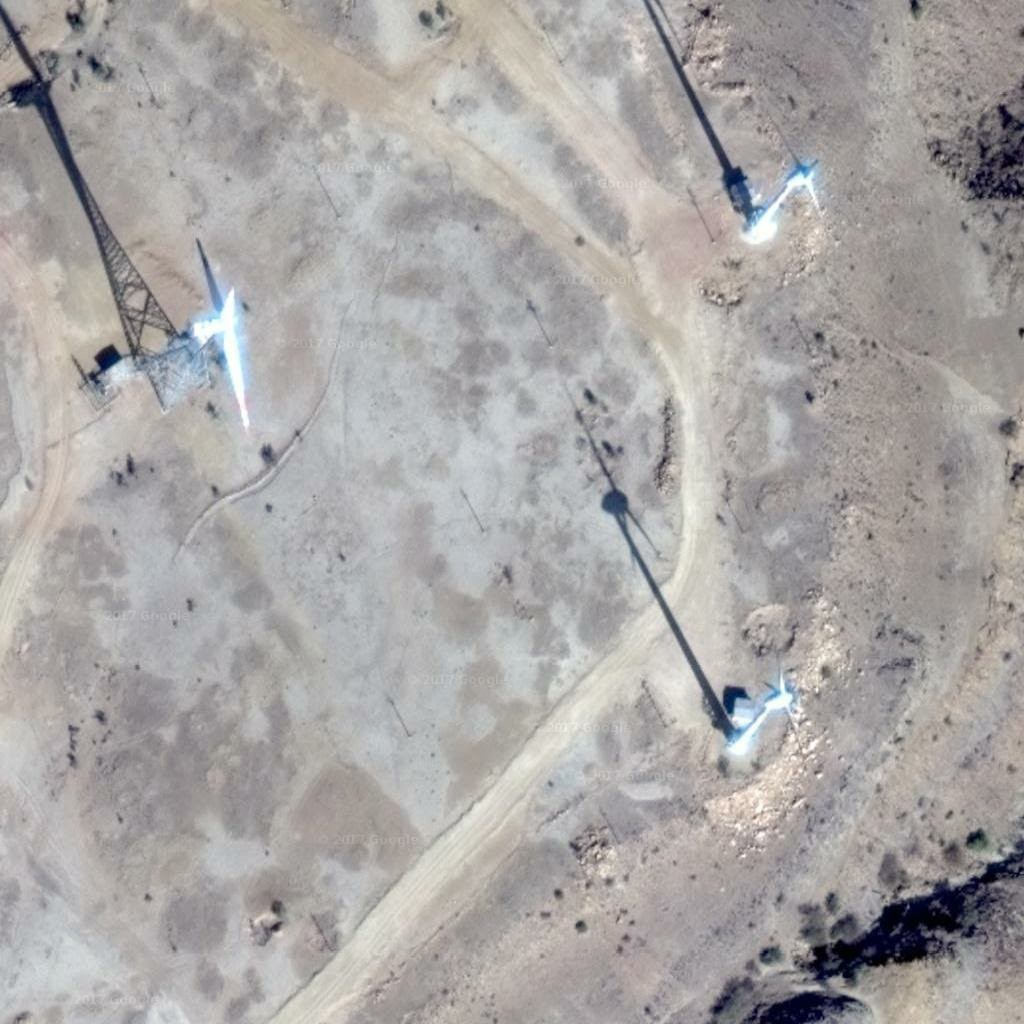Windmill: (2, 15, 179, 415)
